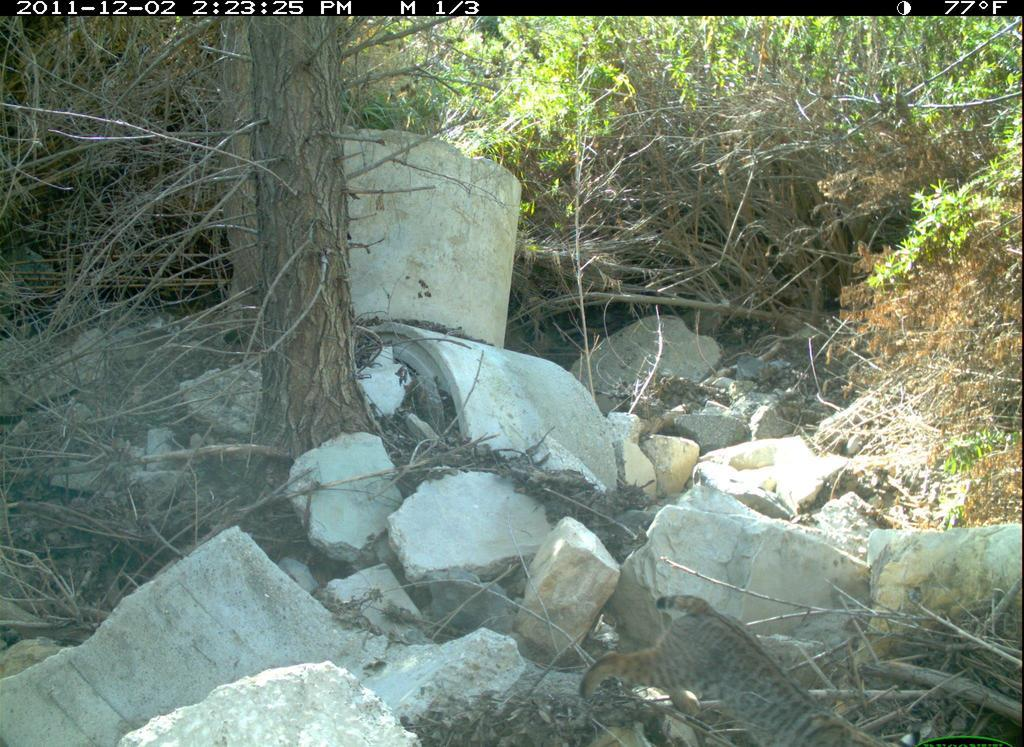bobcat: (582, 585, 913, 745)
